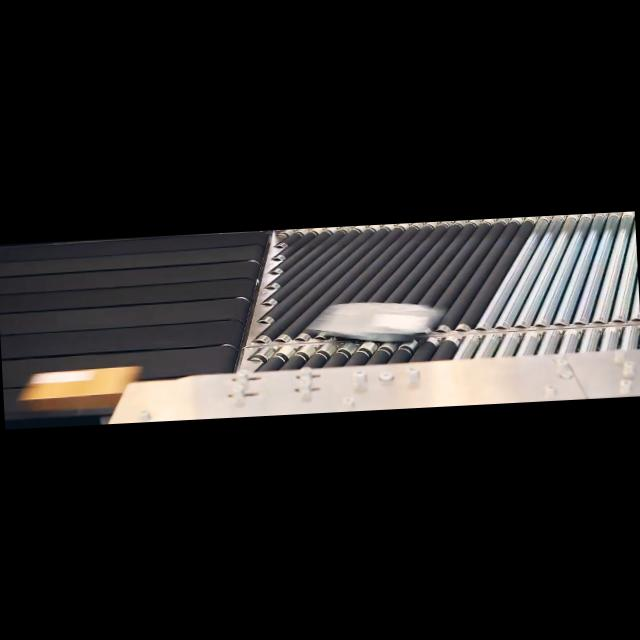mailer: (317, 298, 438, 344)
